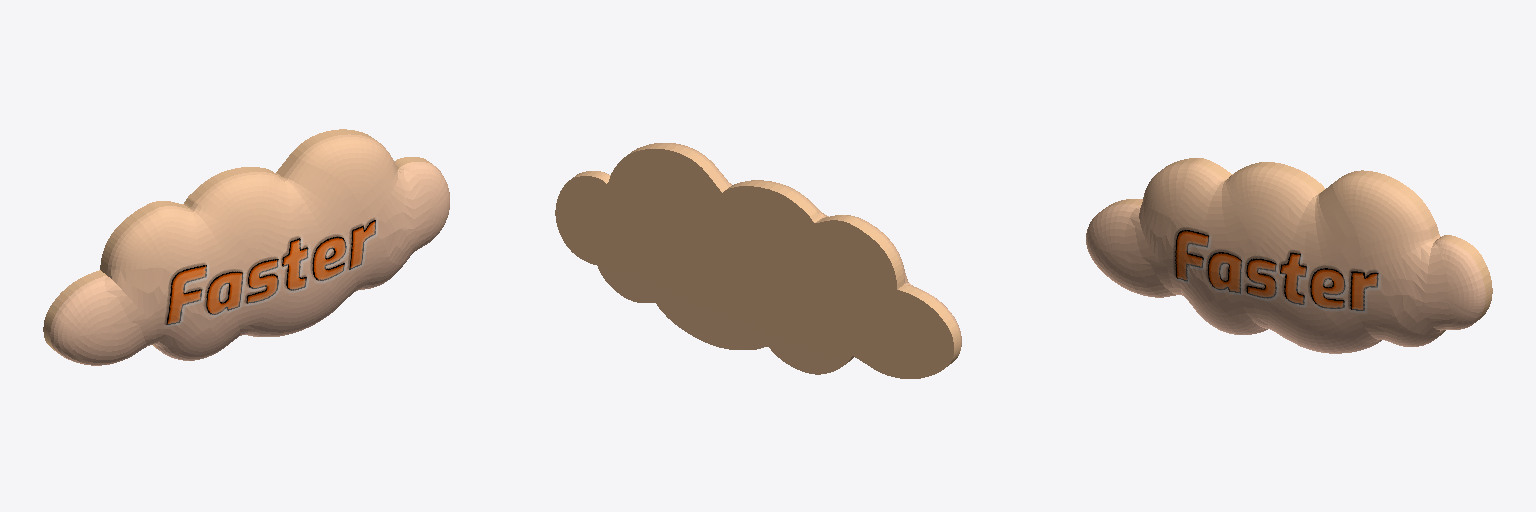
The picture shows the model from 3 angles: view 1: azimuth 30°, elevation 25°; view 2: azimuth 150°, elevation 25°; view 3: azimuth 330°, elevation 25°; orthographic projection.
Visible parts, largest first — view 1: cloud2_flat; view 2: cloud2_flat; view 3: cloud2_flat.
Part boxes in pixels (bbox=[...]): cloud2_flat: bbox=[43, 129, 449, 365]; cloud2_flat: bbox=[555, 143, 961, 378]; cloud2_flat: bbox=[1086, 158, 1492, 353].
Bounding box in the file's own units: 19.47 × 8.83 × 2.24.
1 materials, 1 textured.